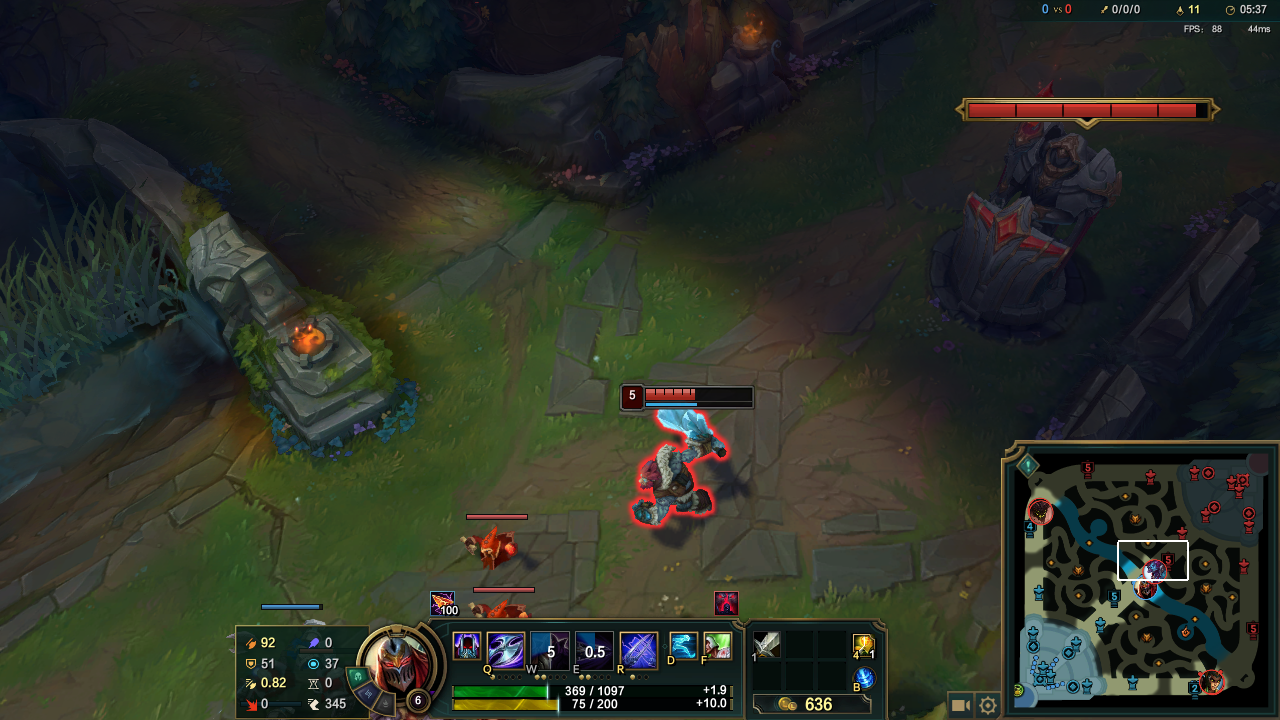DFYX: (645, 387, 749, 405)
